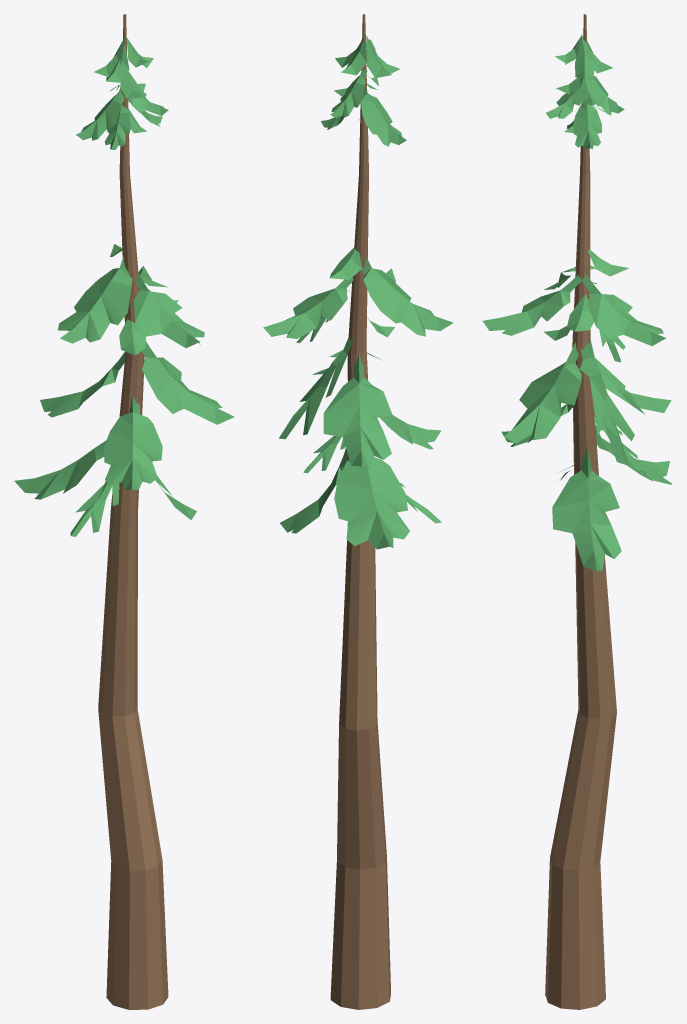
Rendered from Pine model B (2)_92080.glb.
The picture shows the model from 3 angles, left to right: view 1: azimuth 30°, elevation 25°; view 2: azimuth 150°, elevation 25°; view 3: azimuth 270°, elevation 25°; orthographic projection.
Visible parts, largest first — view 1: 01_Trunk, 02_Leaves; view 2: 01_Trunk, 02_Leaves; view 3: 01_Trunk, 02_Leaves.
Part boxes in pixels (x1=…): 01_Trunk: x1=98, y1=14, x2=168, y2=1009; 02_Leaves: x1=14, y1=37, x2=234, y2=536; 01_Trunk: x1=330, y1=14, x2=390, y2=1009; 02_Leaves: x1=263, y1=34, x2=453, y2=549; 01_Trunk: x1=545, y1=14, x2=616, y2=1009; 02_Leaves: x1=482, y1=34, x2=671, y2=570.
Size of the model in its own units: 1.66 by 10 by 1.76.
